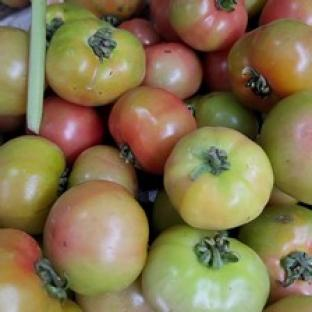Tomato: (44, 180, 149, 295), (163, 126, 272, 229), (143, 225, 268, 311), (46, 19, 146, 105), (228, 19, 311, 112), (109, 87, 196, 174), (239, 204, 311, 303), (0, 136, 65, 233), (260, 90, 311, 203), (0, 229, 58, 311), (39, 95, 104, 167), (69, 144, 137, 197), (143, 42, 203, 98), (194, 91, 259, 139), (0, 27, 29, 118), (76, 278, 154, 311), (46, 2, 97, 44), (151, 189, 185, 235), (119, 17, 161, 47), (202, 49, 231, 91), (264, 294, 311, 311), (268, 186, 298, 206), (0, 115, 25, 133)
